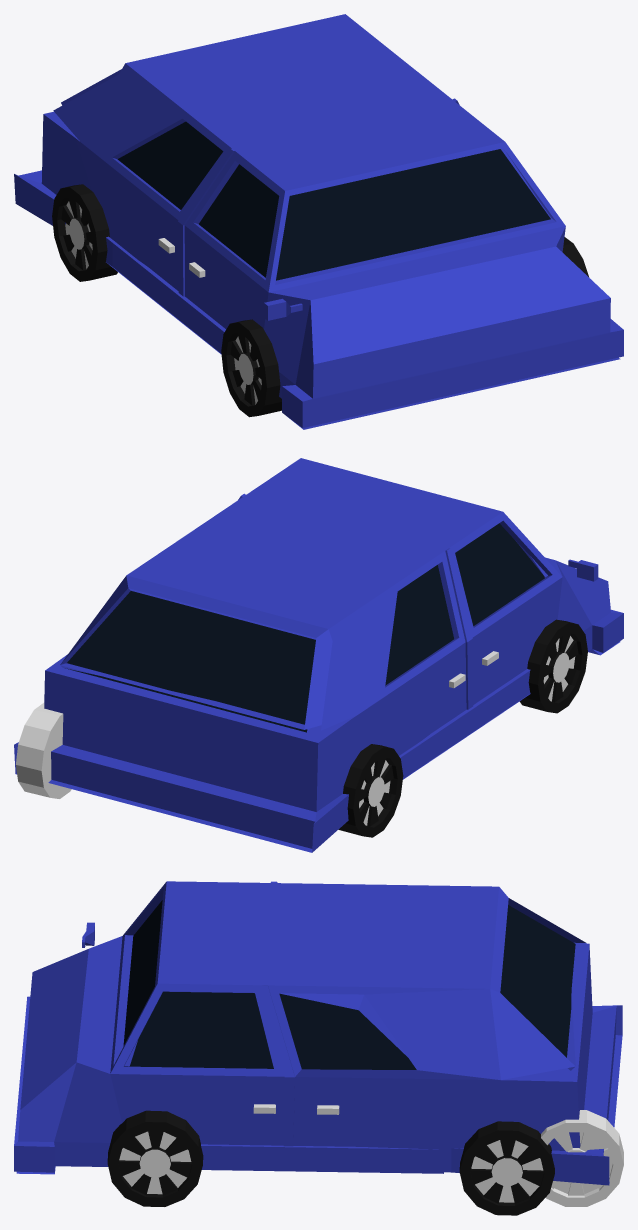
The model's file is purpleCar.glb.
3 views of the same model, one above another, from view 1: azimuth 30°, elevation 25°; view 2: azimuth 150°, elevation 25°; view 3: azimuth 270°, elevation 25° (orthographic). The views are drawn at different scales.
Visible parts, largest first — view 1: Cube, Cylinder.004, Cylinder.001, Cube.003; view 2: Cube, Cylinder.004, Cylinder.001, Cylinder.003; view 3: Cube, Cylinder.008, Cylinder.007, Cylinder.003.
Part boxes in pixels (left/top/right/bottom): Cube: left=14, top=14, right=623, bottom=429; Cylinder.004: left=221, top=319, right=281, bottom=417; Cylinder.001: left=52, top=184, right=117, bottom=281; Cube.003: left=264, top=298, right=302, bottom=320; Cube: left=14, top=458, right=623, bottom=852; Cylinder.004: left=519, top=619, right=587, bottom=713; Cylinder.001: left=338, top=744, right=403, bottom=837; Cylinder.003: left=15, top=702, right=71, bottom=798; Cube: left=14, top=881, right=622, bottom=1185; Cylinder.008: left=107, top=1110, right=203, bottom=1206; Cylinder.007: left=459, top=1121, right=554, bottom=1215; Cylinder.003: left=541, top=1110, right=623, bottom=1206.
Bounding box in the file's own units: 2.36 × 1.35 × 3.73.
